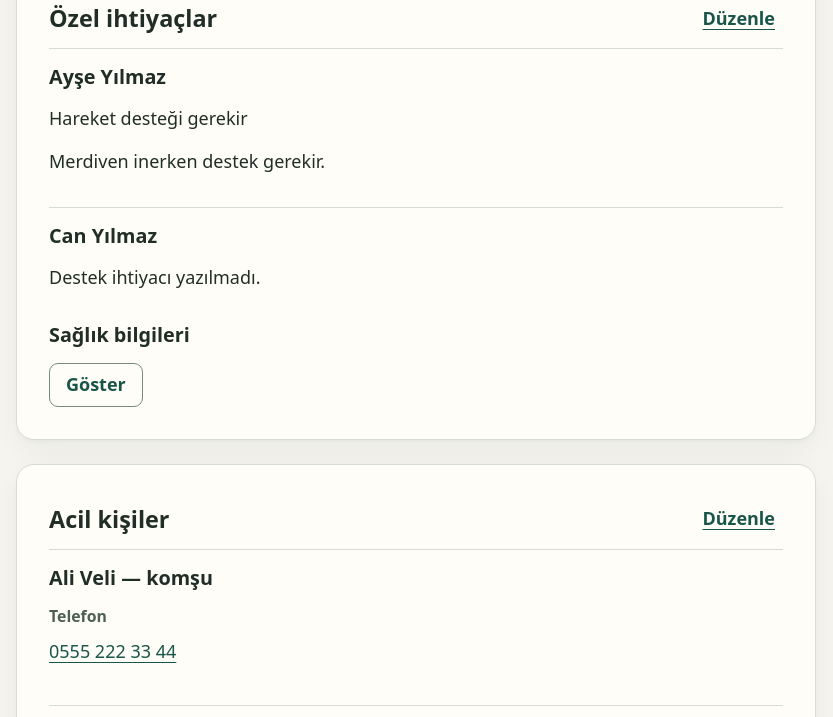
Test case: Summary — sağlık bilgileri (İ8) › "Gizle" ile sağlık bilgilerini yeniden kapatır
(page scrolled)
Click the button "Göster": (96, 385) [49,363,143,407]
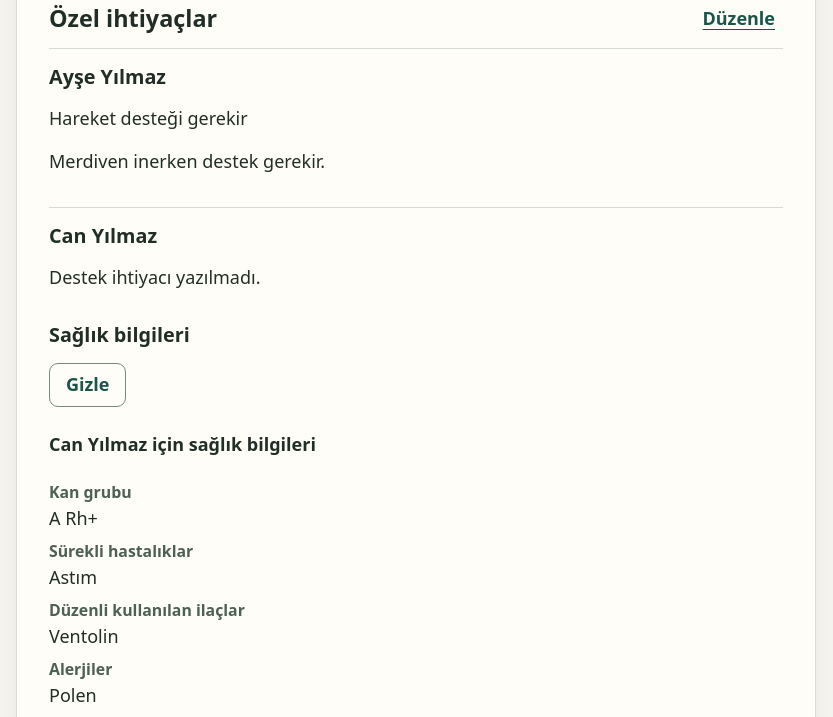
Now the text "Astım" is shown, box [49,565,97,589]
Click the button "Gizle": (88, 385) [49,363,126,407]
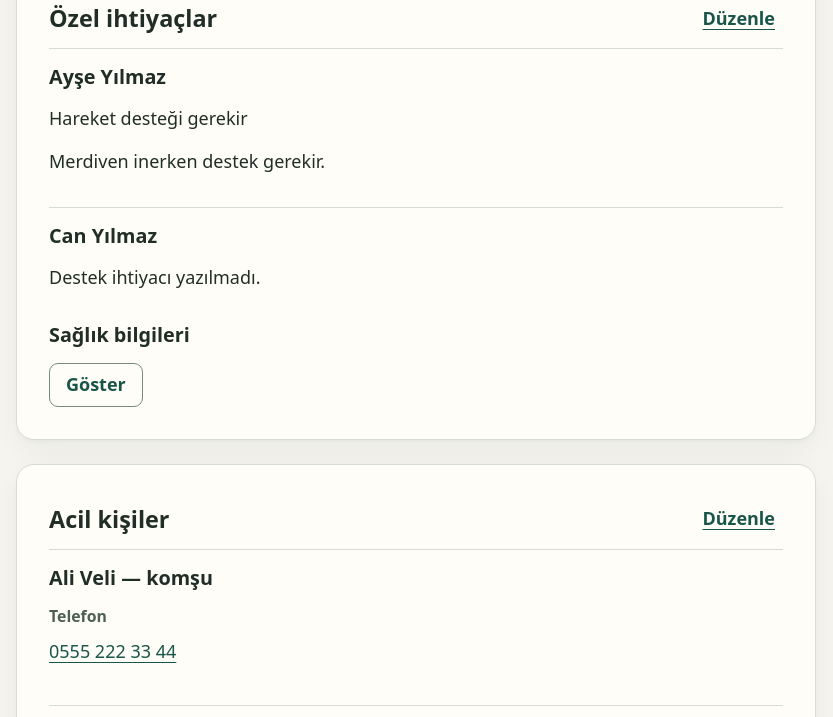
Now the text "Astım" is gone
